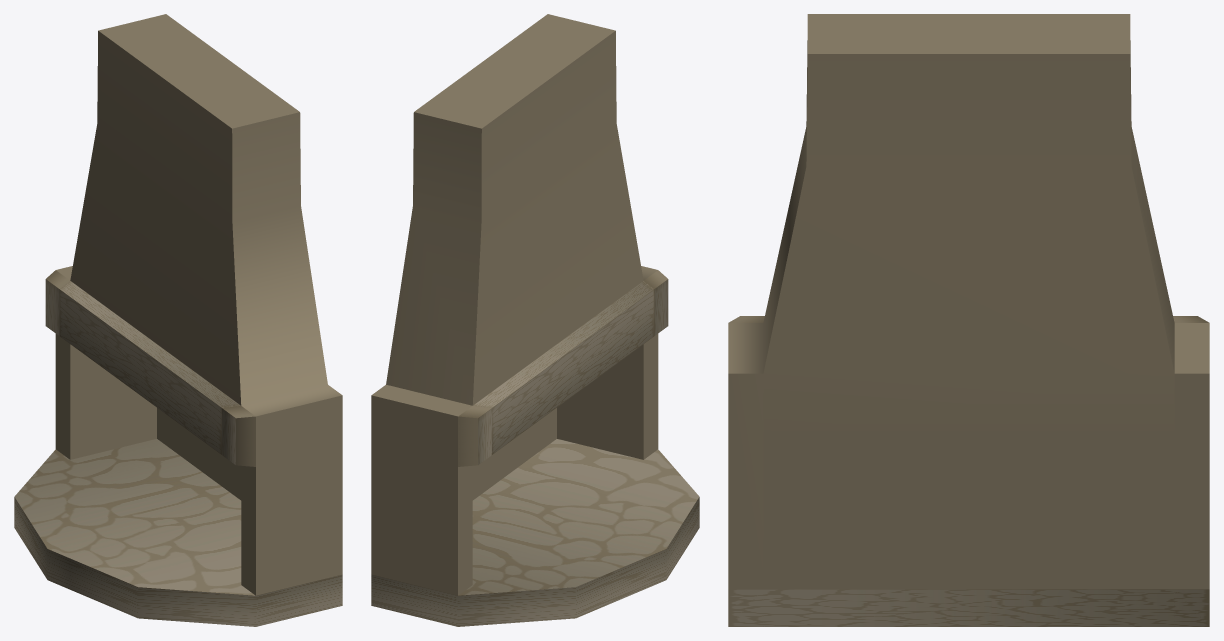
The model's file is chimenea.fbx.
3 views of the same model, side by side, from view 1: azimuth 30°, elevation 25°; view 2: azimuth 150°, elevation 25°; view 3: azimuth 270°, elevation 25° (orthographic). The views are drawn at different scales.
Parts seen in each view (by area): view 1: chimenea, piedras, piedras3, piedras2; view 2: chimenea, piedras, piedras3, piedras2; view 3: chimenea, piedras.
Part boxes in pixels (x1=…): chimenea: x1=55, y1=14, x2=342, y2=595; piedras: x1=14, y1=439, x2=255, y2=595; piedras3: x1=45, y1=270, x2=255, y2=466; piedras2: x1=14, y1=497, x2=342, y2=626; chimenea: x1=371, y1=14, x2=658, y2=595; piedras: x1=458, y1=439, x2=699, y2=595; piedras3: x1=458, y1=270, x2=668, y2=466; piedras2: x1=371, y1=497, x2=699, y2=626; chimenea: x1=728, y1=14, x2=1209, y2=589; piedras: x1=728, y1=589, x2=1209, y2=626.
Bounding box in the file's own units: 151 × 349 × 268.
2 materials, 2 textured.
